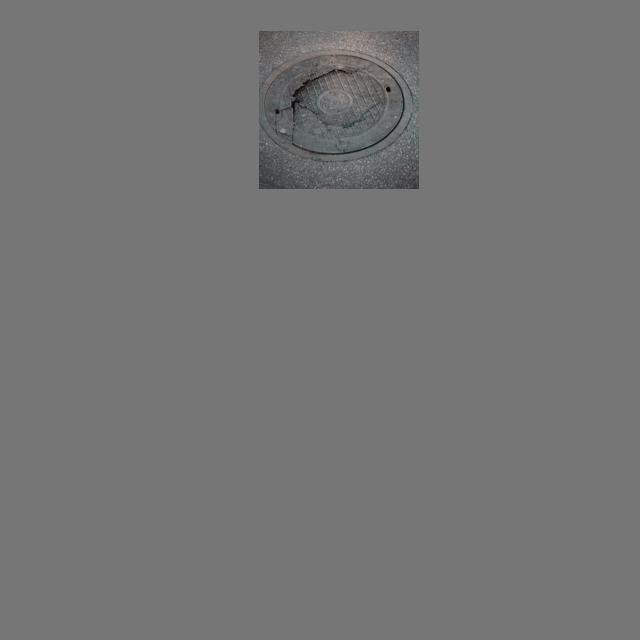broke: (262, 48, 411, 161)
